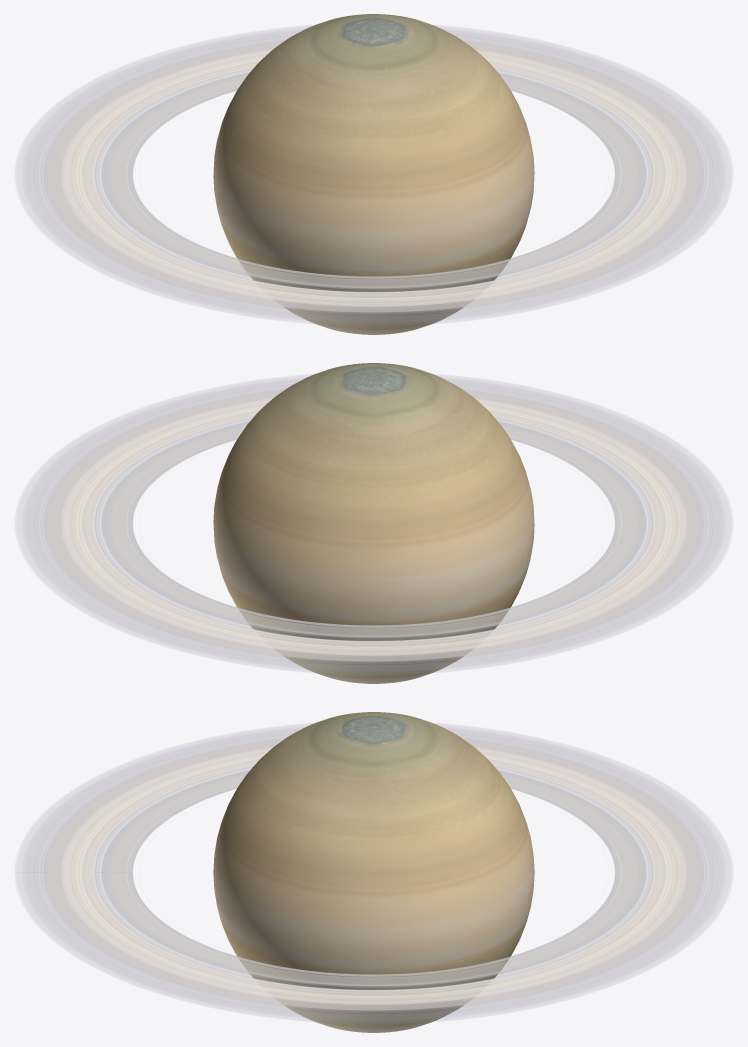
The model's file is Saturn.gltf.
3 renders of one model, top to bottom at view 1: azimuth 30°, elevation 25°; view 2: azimuth 150°, elevation 25°; view 3: azimuth 270°, elevation 25°, orthographic.
Visible parts, largest first — view 1: Saturn; view 2: Saturn; view 3: Saturn.
Boxes of the visible parts, x1,y1,x2,y2 form: Saturn: (15,14,732,334); Saturn: (15,363,732,683); Saturn: (15,712,732,1032).
Bounding box in the file's own units: 22.41 × 10 × 22.41.
2 materials, 2 textured.
